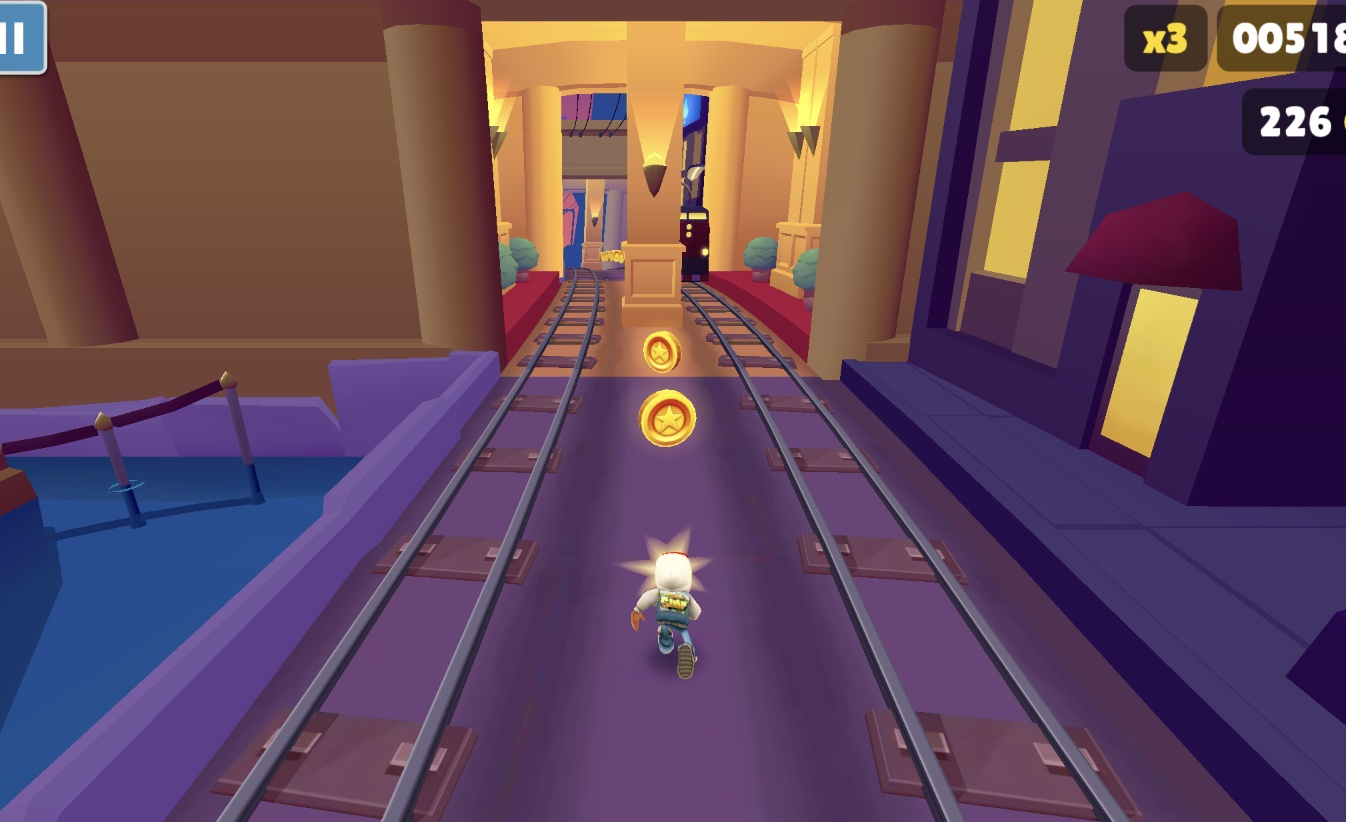pillar: (622, 42, 684, 316), (582, 176, 608, 268)
train: (680, 210, 712, 280)
